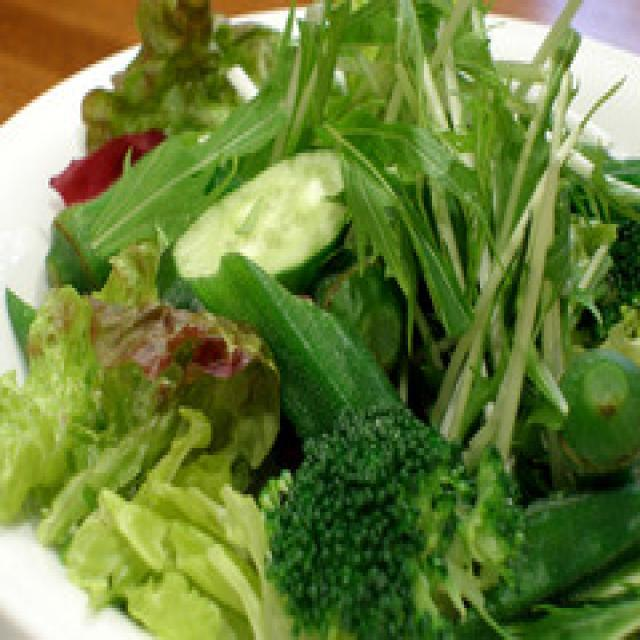Green Salad: (62, 32, 639, 640)
